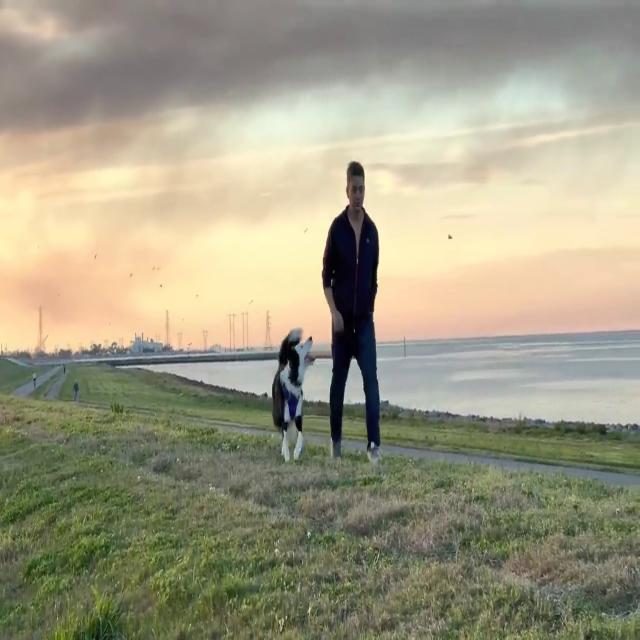Unleashed_Dog: (272, 324, 371, 466)
